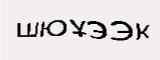О: (32, 14, 51, 37)
Х: (90, 11, 106, 41), (109, 15, 125, 37)
Ч: (69, 12, 88, 37)
Я: (50, 13, 69, 39)
